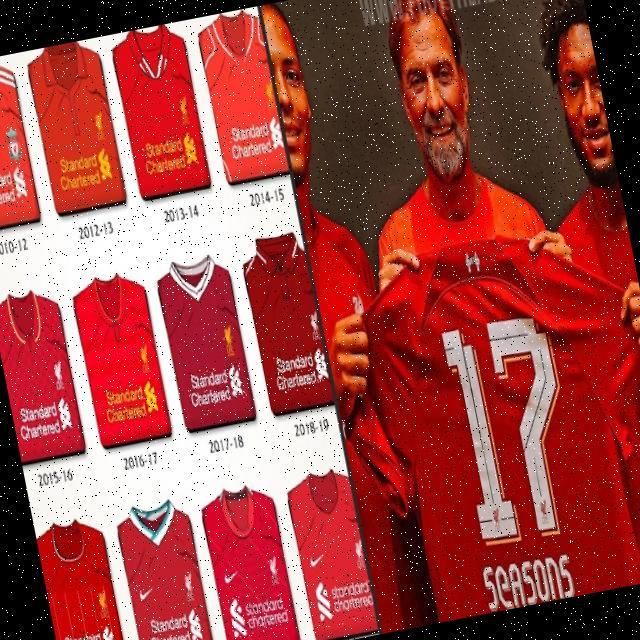Standard Chartered: (313, 570, 377, 629), (97, 373, 163, 426), (226, 587, 292, 640), (273, 344, 332, 394), (140, 131, 201, 179), (185, 362, 248, 408), (56, 150, 116, 196), (15, 396, 75, 442), (228, 119, 285, 162), (143, 607, 205, 640), (0, 164, 30, 211), (62, 622, 118, 640)
